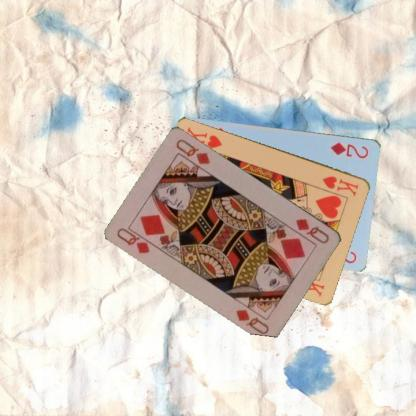2d: (328, 140, 370, 160)
Kh: (320, 172, 360, 198)
Qd: (115, 224, 158, 256), (292, 215, 331, 245)
